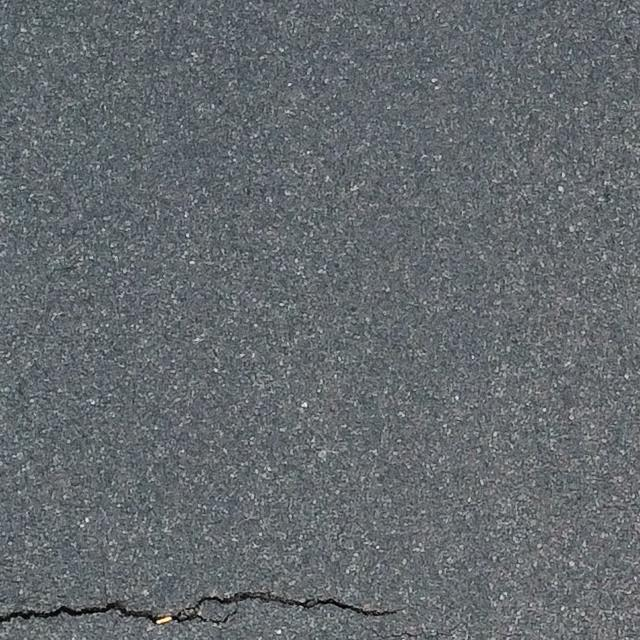TransverseCrack: (1, 589, 401, 625)
